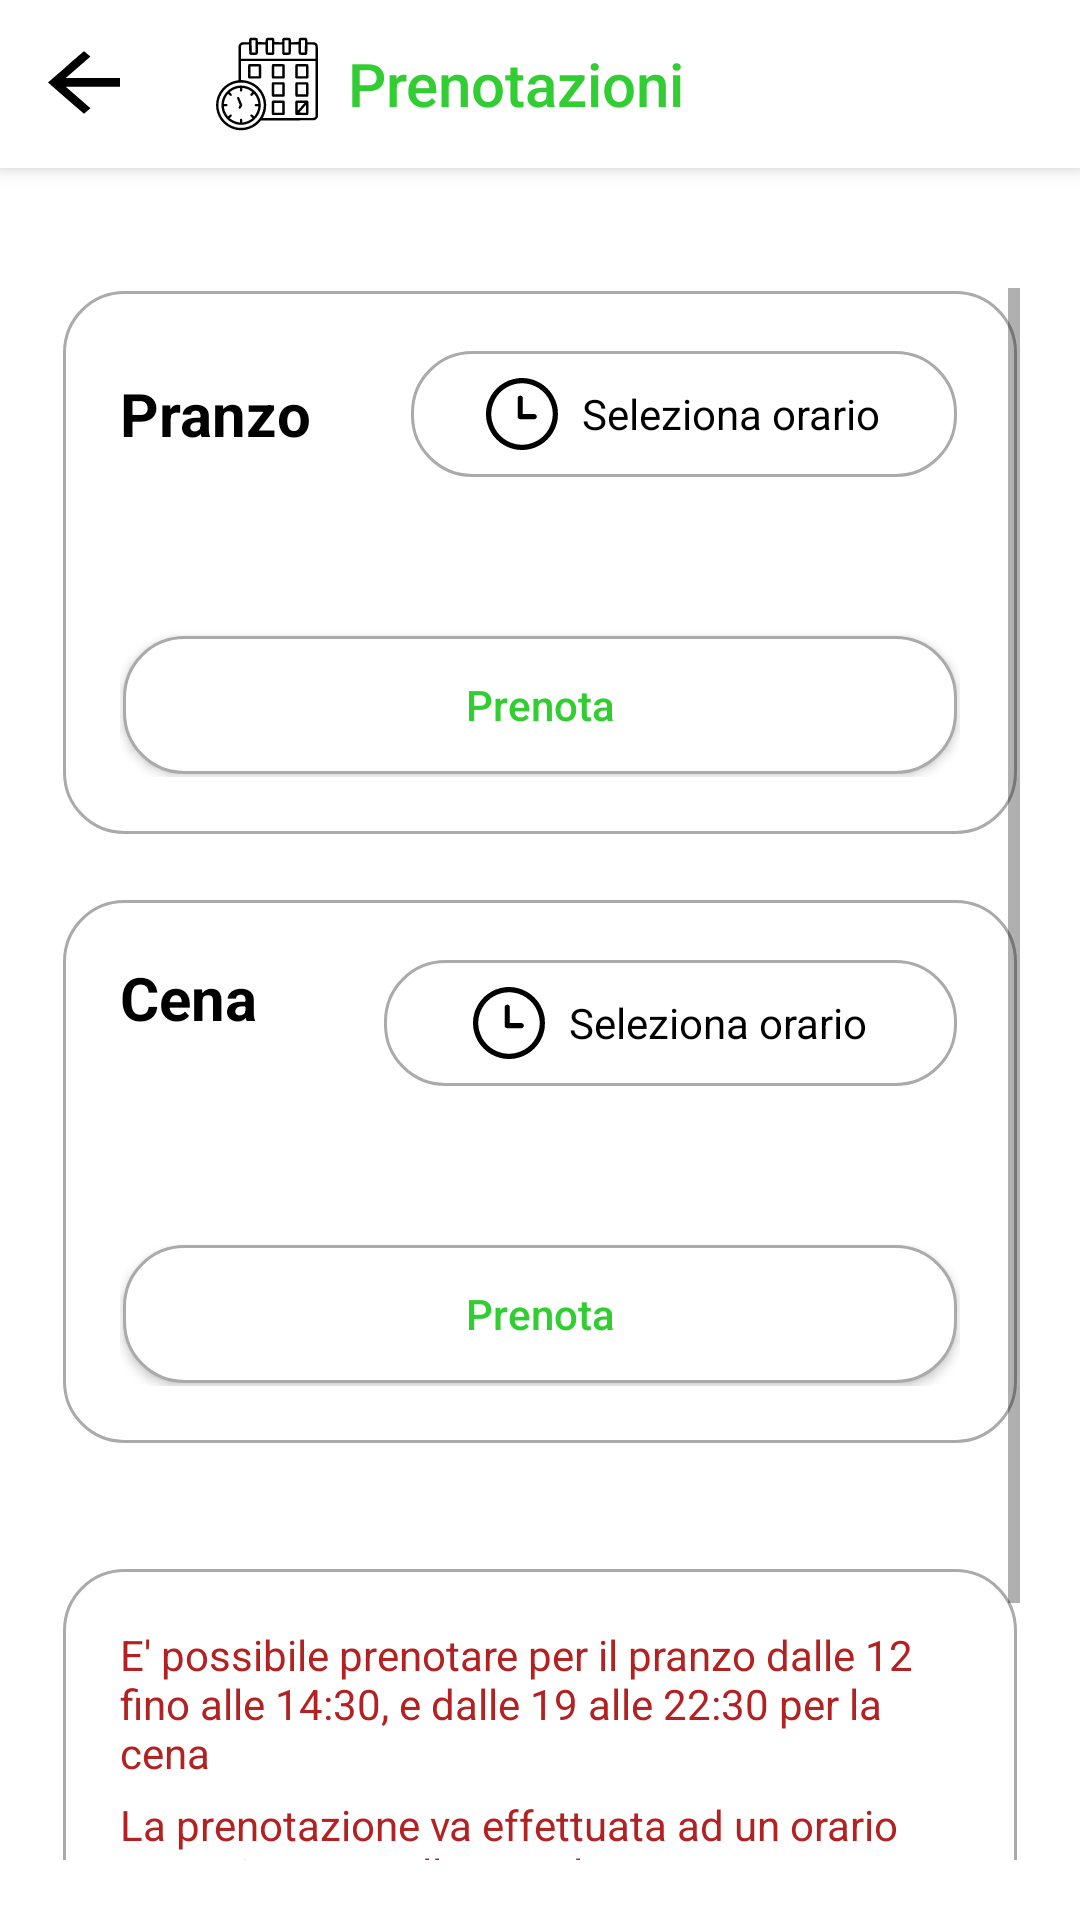

Named icons in this screenshot (1080 × 1920) and their centers, [x,y]:
orologio: [522,414], [509,1023]
